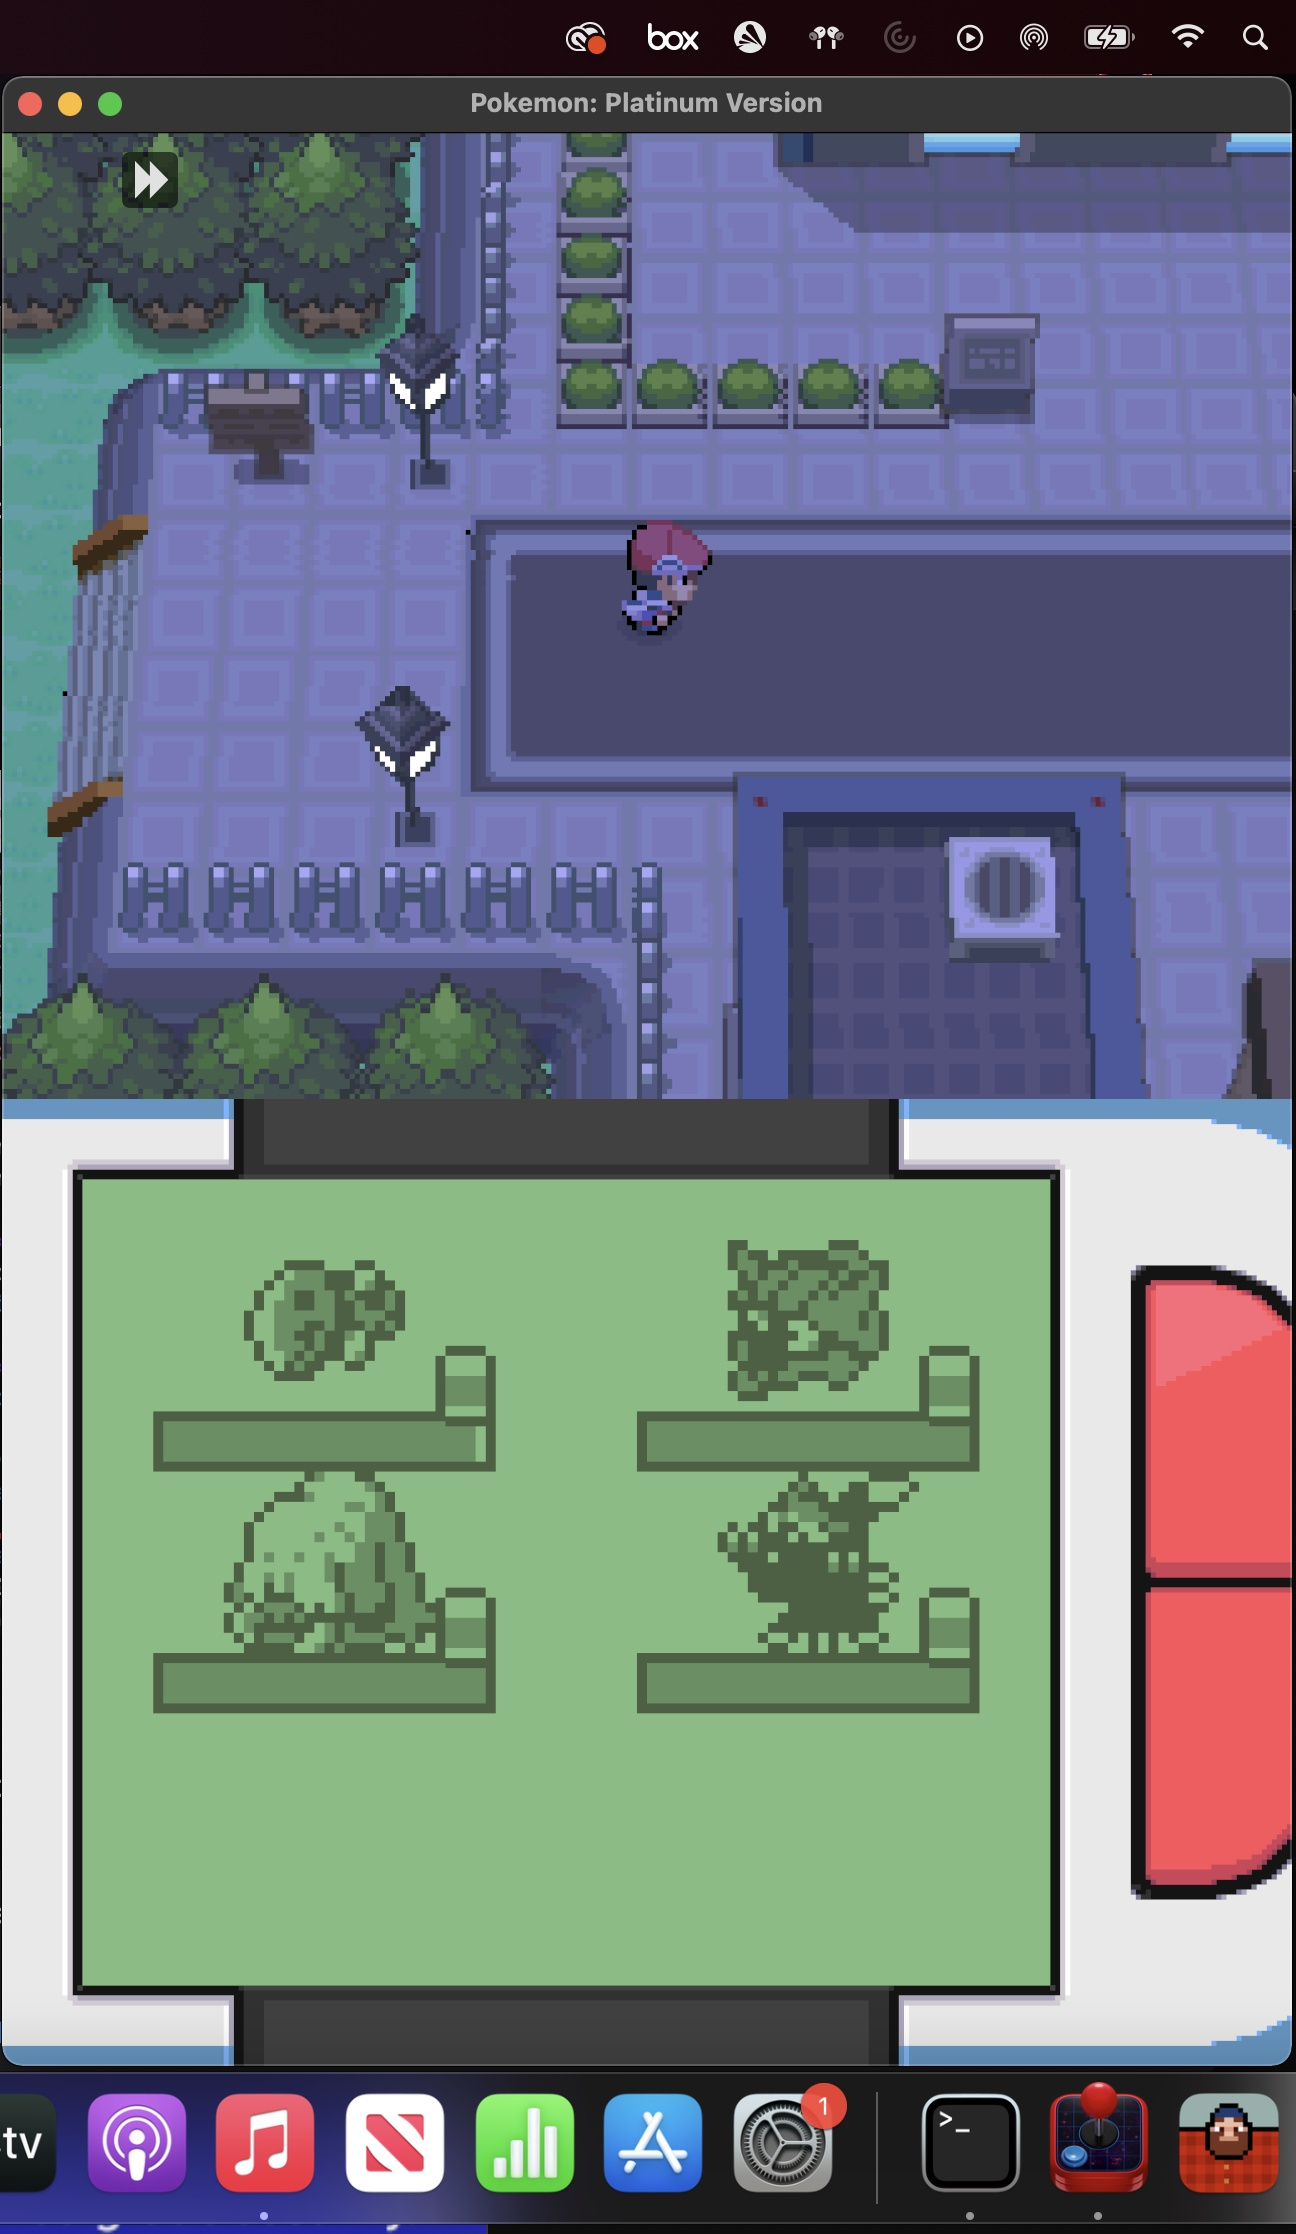player: (603, 506, 711, 654)
turn right: (179, 322, 482, 506)
